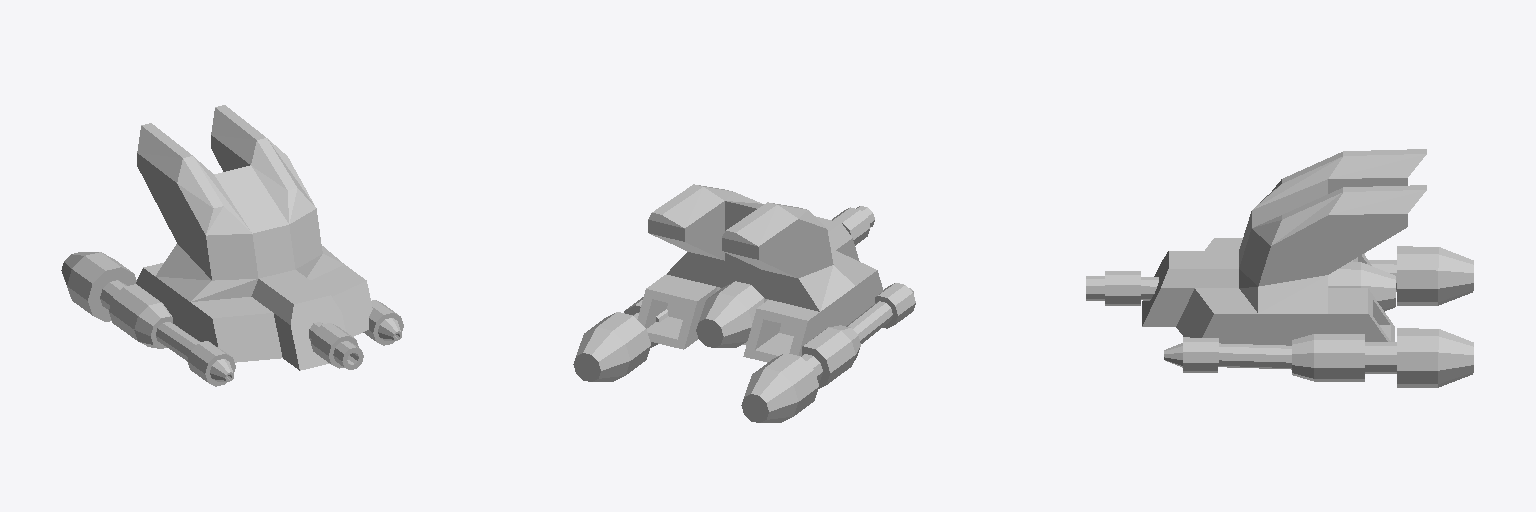
The model's file is SentryBot.obj.
3 renders of one model, left to right at view 1: azimuth 30°, elevation 25°; view 2: azimuth 150°, elevation 25°; view 3: azimuth 270°, elevation 25°, orthographic.
Bounding box in the file's own units: 5.95 × 4.5 × 9.09.